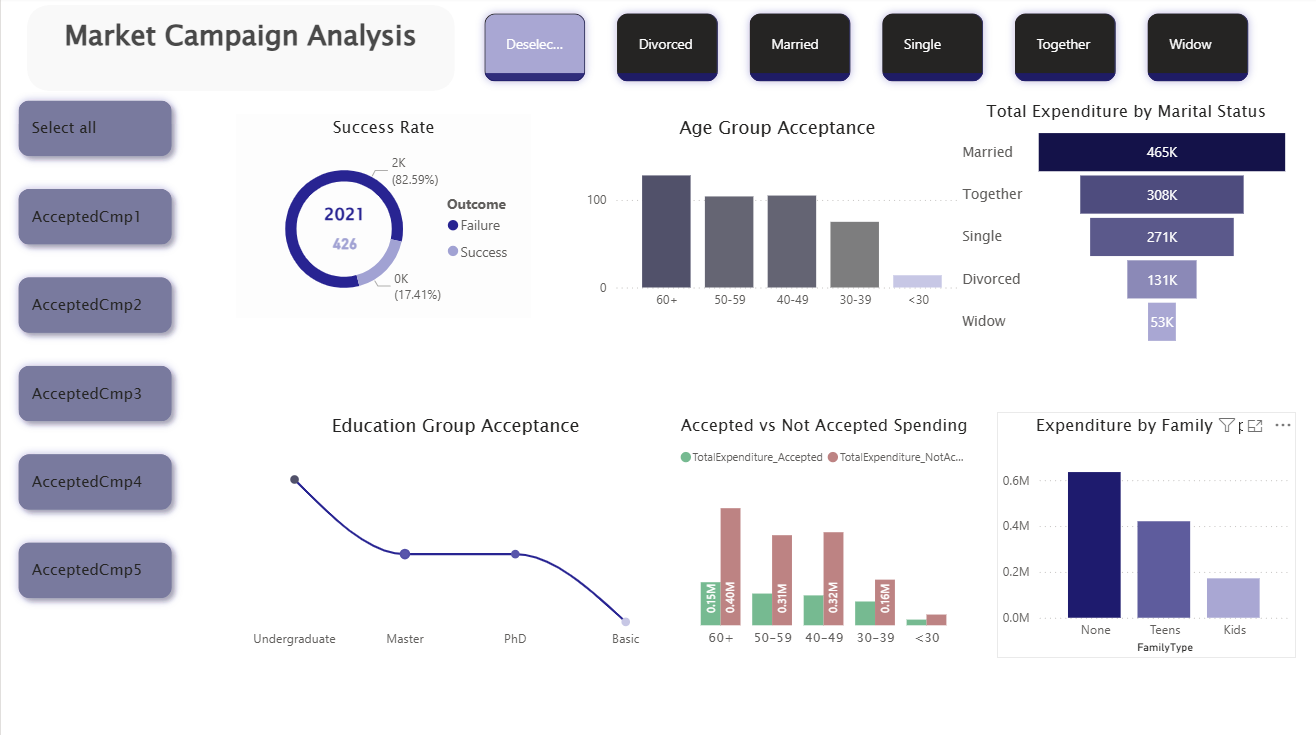

What the dashboard file says about the page in this screenshot:
{"tool":"powerbi","page":{"name":"Page 3","canvas":[1280,720],"ordinal":1},"visuals":[{"type":"advancedSlicerVisual","fields":{"Values":["CampaignList.Campaign"]},"box":[0,83.9,183.2,520.2],"z":0},{"type":"group","id":"g1","title":"Group 1","box":[228.3,113.4,287.3,198.8],"z":1000},{"type":"donutChart","title":"Success Rate","fields":{"Category":["Outcome.Outcome"],"Y":["Outcome.CampaignOutcomeCount11"]},"box":[228.3,113.4,287.3,198.8],"z":1000,"group":"g1"},{"type":"clusteredColumnChart","title":"Age Group Acceptance","fields":{"Y":["CampaignList.AcceptedByAgeGroup"],"Category":["mkt_cmpg.AgeGroup"]},"box":[563.7,113.4,382,198.8],"z":2000},{"type":"card","fields":{"Values":["CampaignList.Success11"]},"box":[295.1,212.8,77.6,55.9],"z":2000,"group":"g1"},{"type":"card","fields":{"Values":["CampaignList.Failure"]},"box":[295.1,184.8,77.6,55.9],"z":3000,"group":"g1"},{"type":"lineChart","title":"Education Group Acceptance","fields":{"Category":["mkt_cmpg.EducationLevel"],"Y":["CampaignList.AcceptedByEduLvl"]},"box":[228.3,403.7,427,239.1],"z":3000},{"type":"textbox","box":[38.8,12.4,388.2,71.4],"z":4000},{"type":"shape","box":[25.3,7.8,416.3,83.6],"z":5000},{"type":"funnel","title":"Total Expenditure by Marital Status","fields":{"Y":["Sum(mkt_cmpg.TotalExpenditure)"],"Category":["mkt_cmpg.MaritalStatus"]},"box":[930.1,97.8,329.2,245.3],"z":6000},{"type":"clusteredColumnChart","title":"Expenditure by Family Type","fields":{"Y":["Sum(mkt_cmpg.TotalExpenditure)"],"Category":["mkt_cmpg.FamilyType"]},"box":[968.9,403.7,290.4,239.1],"z":7000},{"type":"clusteredColumnChart","title":"Accepted vs Not Accepted Spending","fields":{"Category":["mkt_cmpg.AgeGroup"],"Y":["CampaignList.TotalExpenditure_Accepted","CampaignList.TotalExpenditure_NotAccepted"]},"box":[655.3,403.7,290.4,239.1],"z":8000},{"type":"advancedSlicerVisual","fields":{"Values":["mkt_cmpg.MaritalStatus"]},"box":[454.2,0,780.1,98.2],"z":9000}]}

Visuals, with their boxes in screenshot pixels (x1, y1, x2, y2), scaled from the page's 1280x720 canvas onto the 1316x735 screenshot:
advancedSlicerVisual - CampaignList.Campaign: bbox=(0, 86, 188, 617)
"Group 1" group: bbox=(235, 116, 530, 319)
"Success Rate" donutChart: bbox=(235, 116, 530, 319)
"Age Group Acceptance" clusteredColumnChart: bbox=(580, 116, 972, 319)
card - CampaignList.Success11: bbox=(303, 217, 383, 274)
card - CampaignList.Failure: bbox=(303, 189, 383, 246)
"Education Group Acceptance" lineChart: bbox=(235, 412, 674, 656)
textbox: bbox=(40, 13, 439, 86)
shape: bbox=(26, 8, 454, 93)
"Total Expenditure by Marital Status" funnel: bbox=(956, 100, 1295, 350)
"Expenditure by Family Type" clusteredColumnChart: bbox=(996, 412, 1295, 656)
"Accepted vs Not Accepted Spending" clusteredColumnChart: bbox=(674, 412, 972, 656)
advancedSlicerVisual - mkt_cmpg.MaritalStatus: bbox=(467, 0, 1269, 100)
